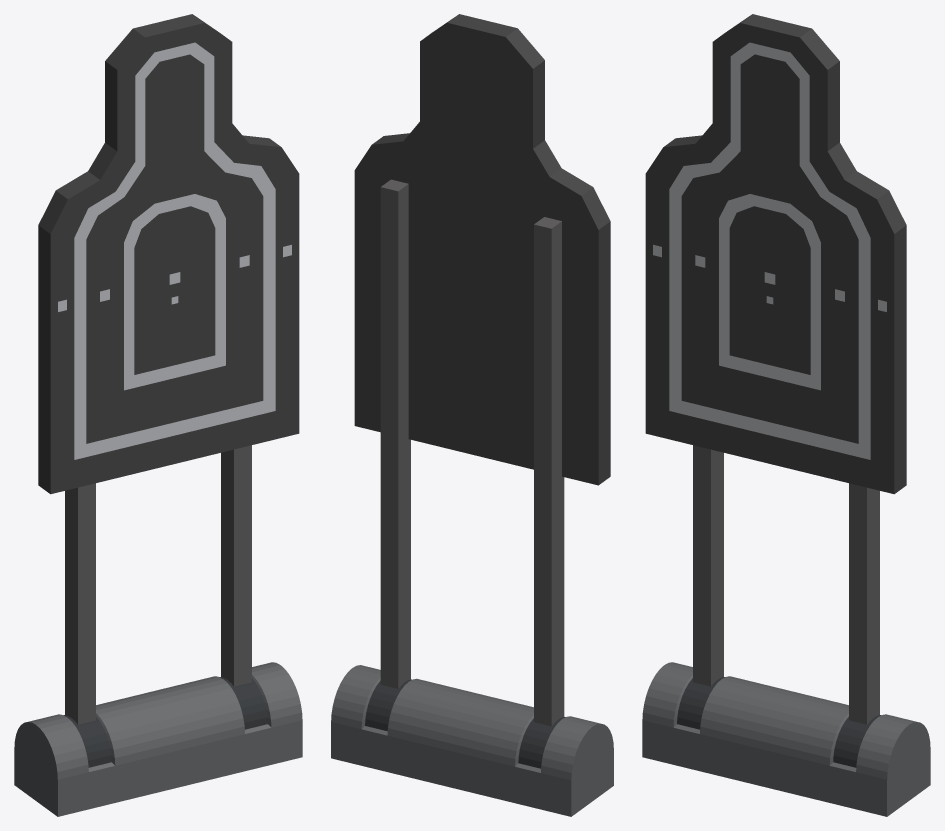
Rendered from target.glb.
3 renders of one model, left to right at view 1: azimuth 30°, elevation 25°; view 2: azimuth 150°, elevation 25°; view 3: azimuth 330°, elevation 25°, orthographic.
Parts seen in each view (by area): view 1: target, Target Base; view 2: target, Target Base; view 3: target, Target Base.
Boxes of the visible parts, <box> form: target: <box>38,14,299,724</box>; Target Base: <box>14,662,302,816</box>; target: <box>354,14,610,726</box>; Target Base: <box>331,665,613,816</box>; target: <box>645,14,906,724</box>; Target Base: <box>642,662,930,816</box>.
Size of the model in its own units: 0.5953 by 1.72 by 0.18.
Materials: 1 (1 with a texture image).
